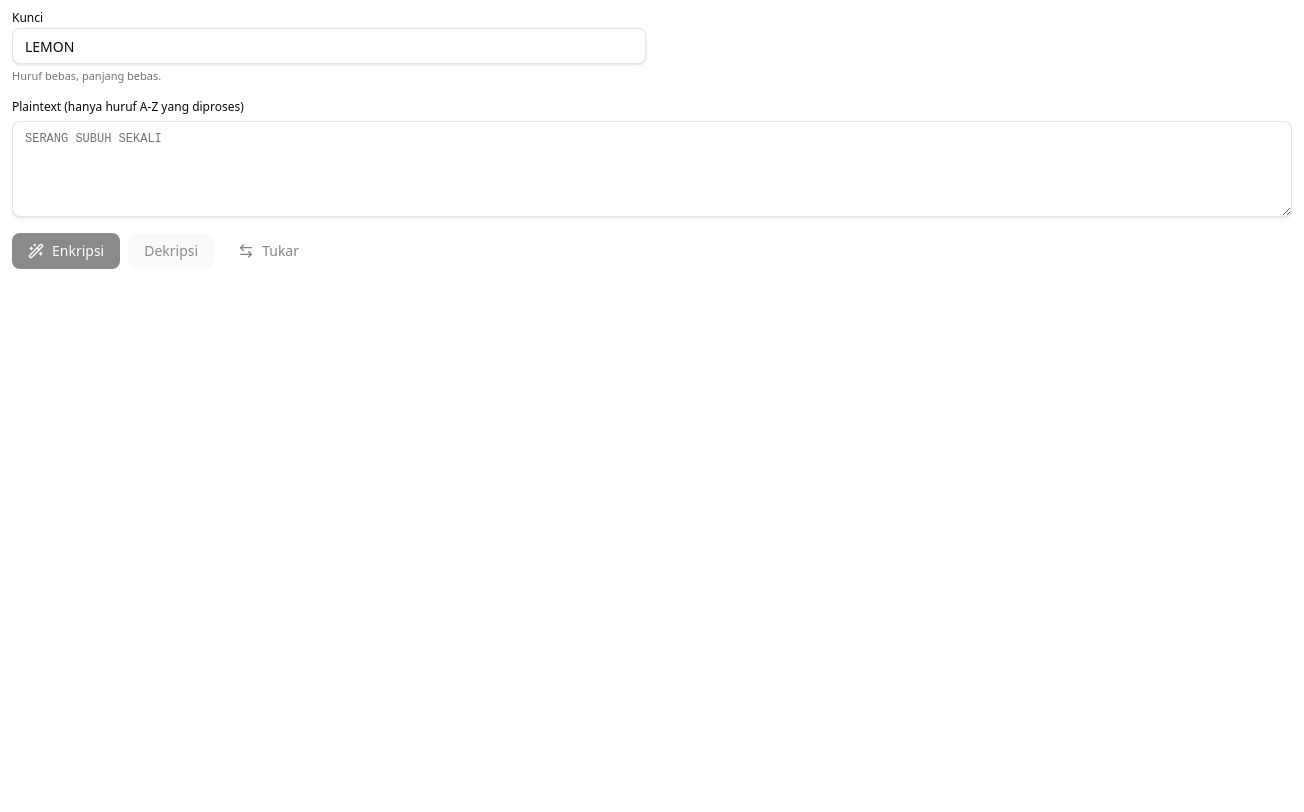
Scenario: TextPanel — enkripsi/dekripsi teks lewat GUI › Vigenere standard: ATTACKATDAWN + LEMON -> LXFOPVEFRNHR (vektor buku)
Type "ATTACKATDAWN" into the text box labelled "Plaintext (hanya huruf A-Z yang diproses)" at (652, 168), box left=12, top=120, right=1292, bottom=216
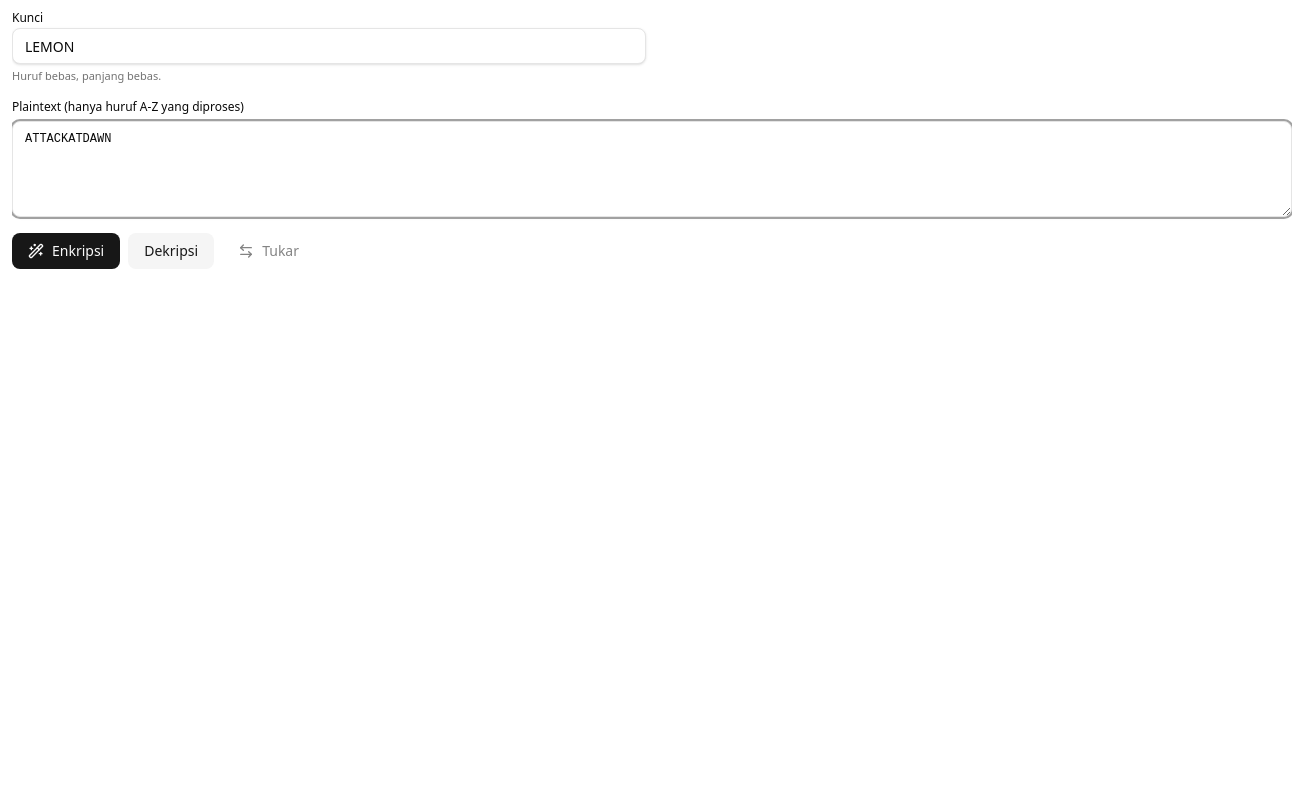
Click the button "Enkripsi" at (66, 250), box left=12, top=232, right=120, bottom=268
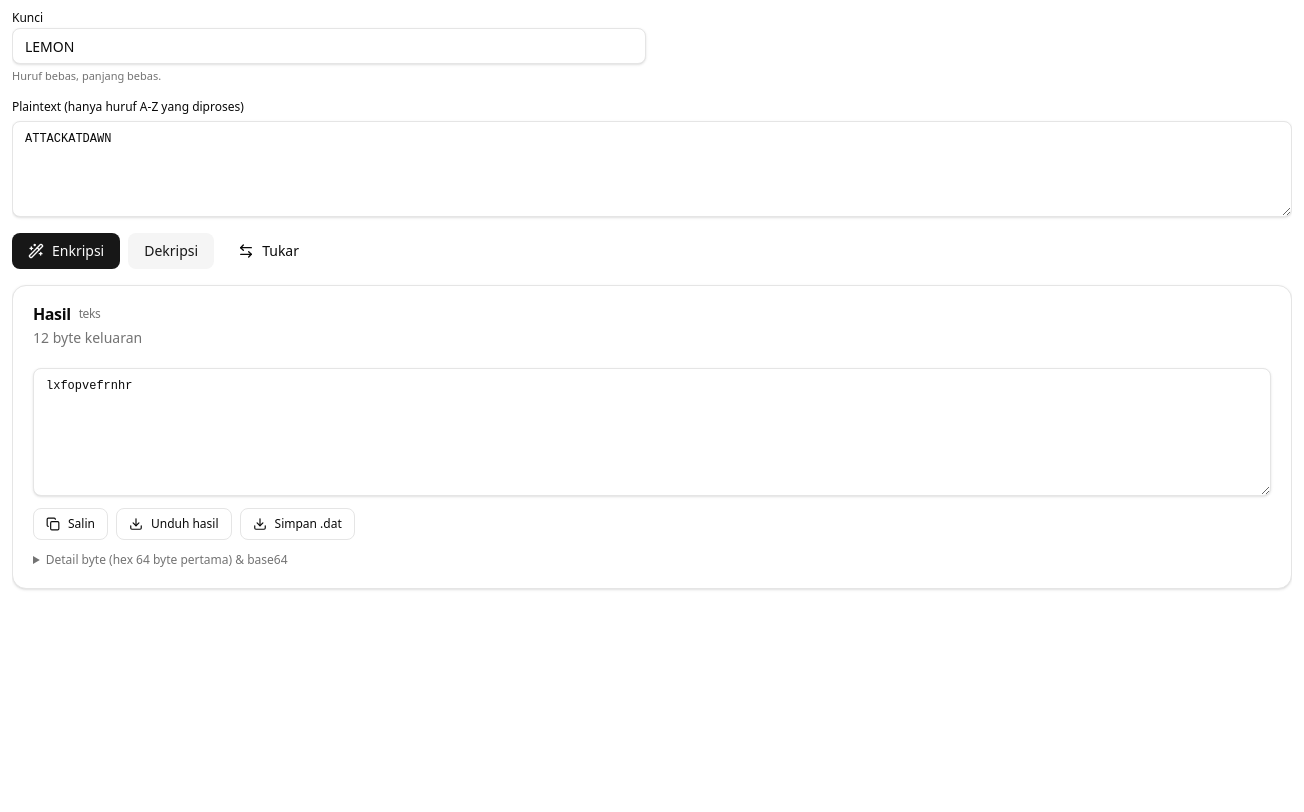
Check: the text box with test id "result-output" holds "lxfopvefrnhr", box left=33, top=368, right=1271, bottom=496
